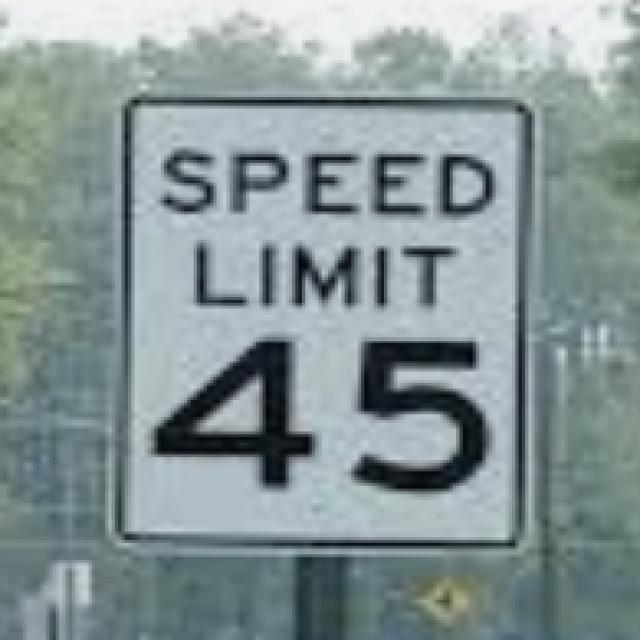speedLimit45: (130, 100, 523, 539)
